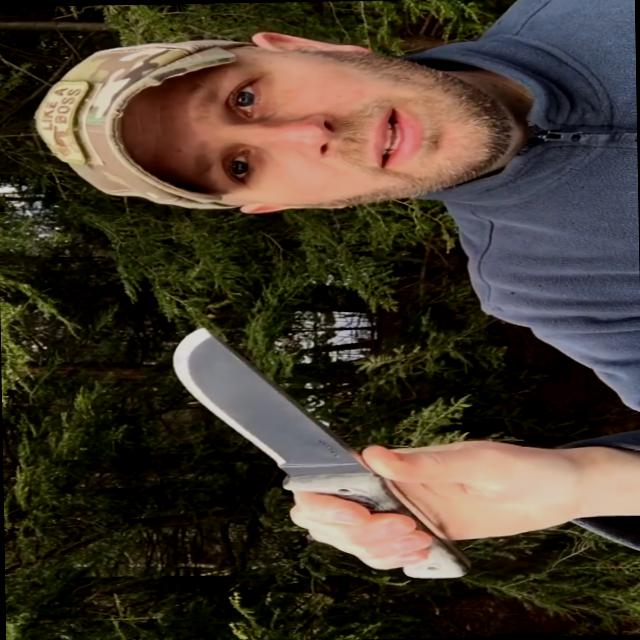knife: (154, 314, 468, 550)
